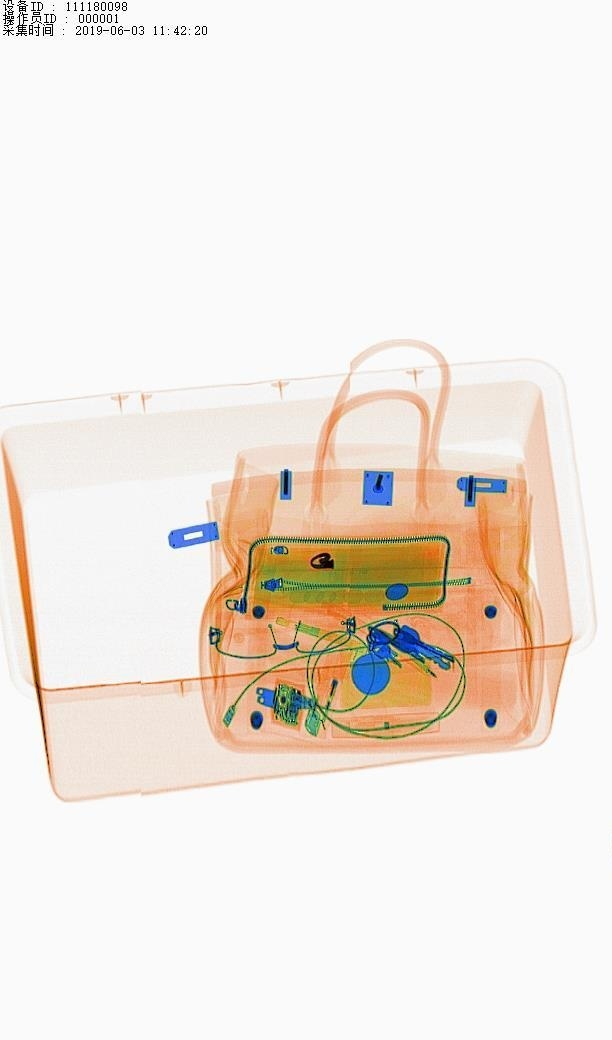NonmetallicFire: (296, 623, 373, 755)
